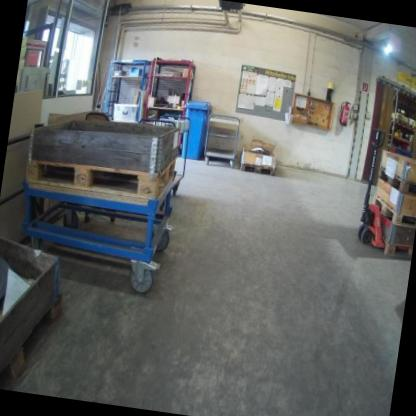pallet: (23, 136, 177, 204), (368, 194, 416, 231), (375, 163, 416, 198), (383, 239, 413, 260), (239, 162, 276, 177)
pallet_truck: (343, 117, 416, 260)
